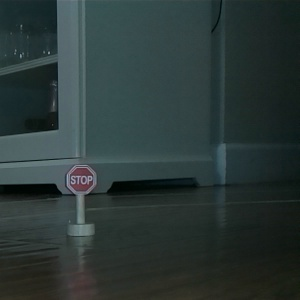stop sign: (64, 163, 99, 237)
